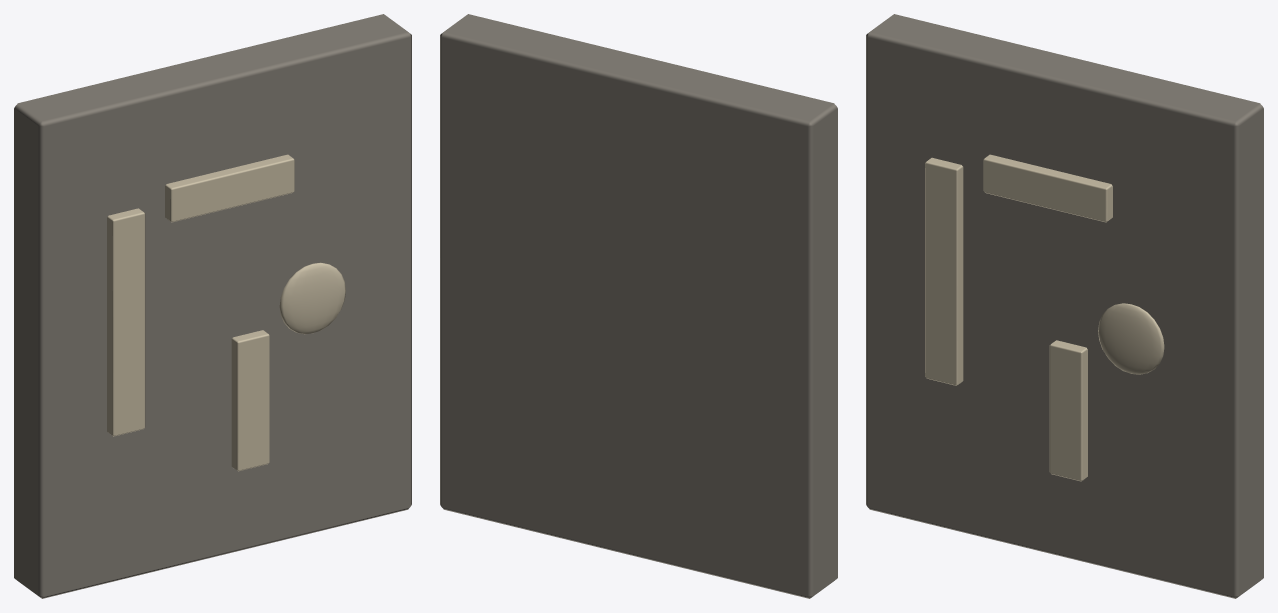
The model's file is carvings.5a8a9fa4.glb.
3 renders of one model, left to right at view 1: azimuth 30°, elevation 25°; view 2: azimuth 150°, elevation 25°; view 3: azimuth 330°, elevation 25°, orthographic.
Visible parts, largest first — view 1: body; view 2: body; view 3: body.
Part boxes in pixels (<box>): body: <box>14,14,411,598</box>; body: <box>440,14,837,598</box>; body: <box>866,14,1263,598</box>.
Bounding box in the file's own units: 0.9 × 1.1 × 0.145.
